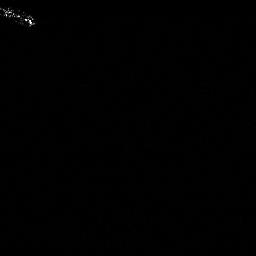ship: (4, 8, 35, 24)
